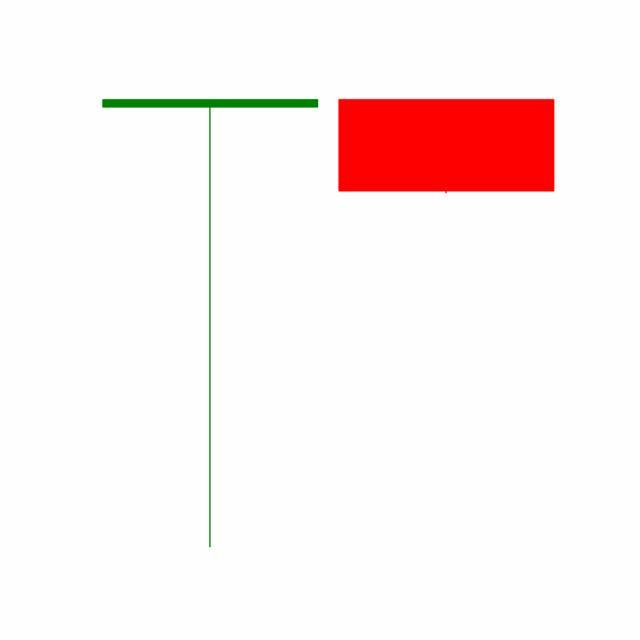Marubozu: (328, 98, 566, 195)
